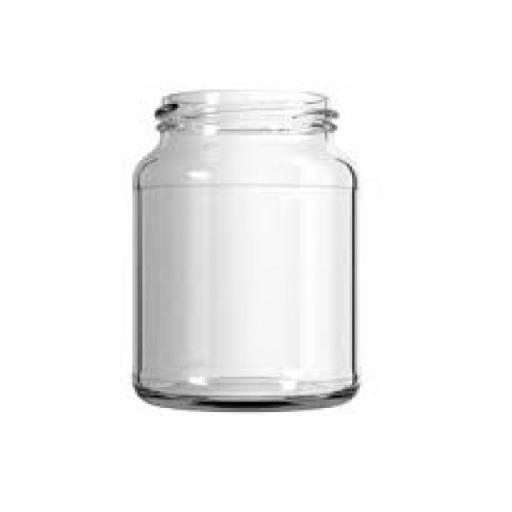glass: (117, 73, 365, 423)
